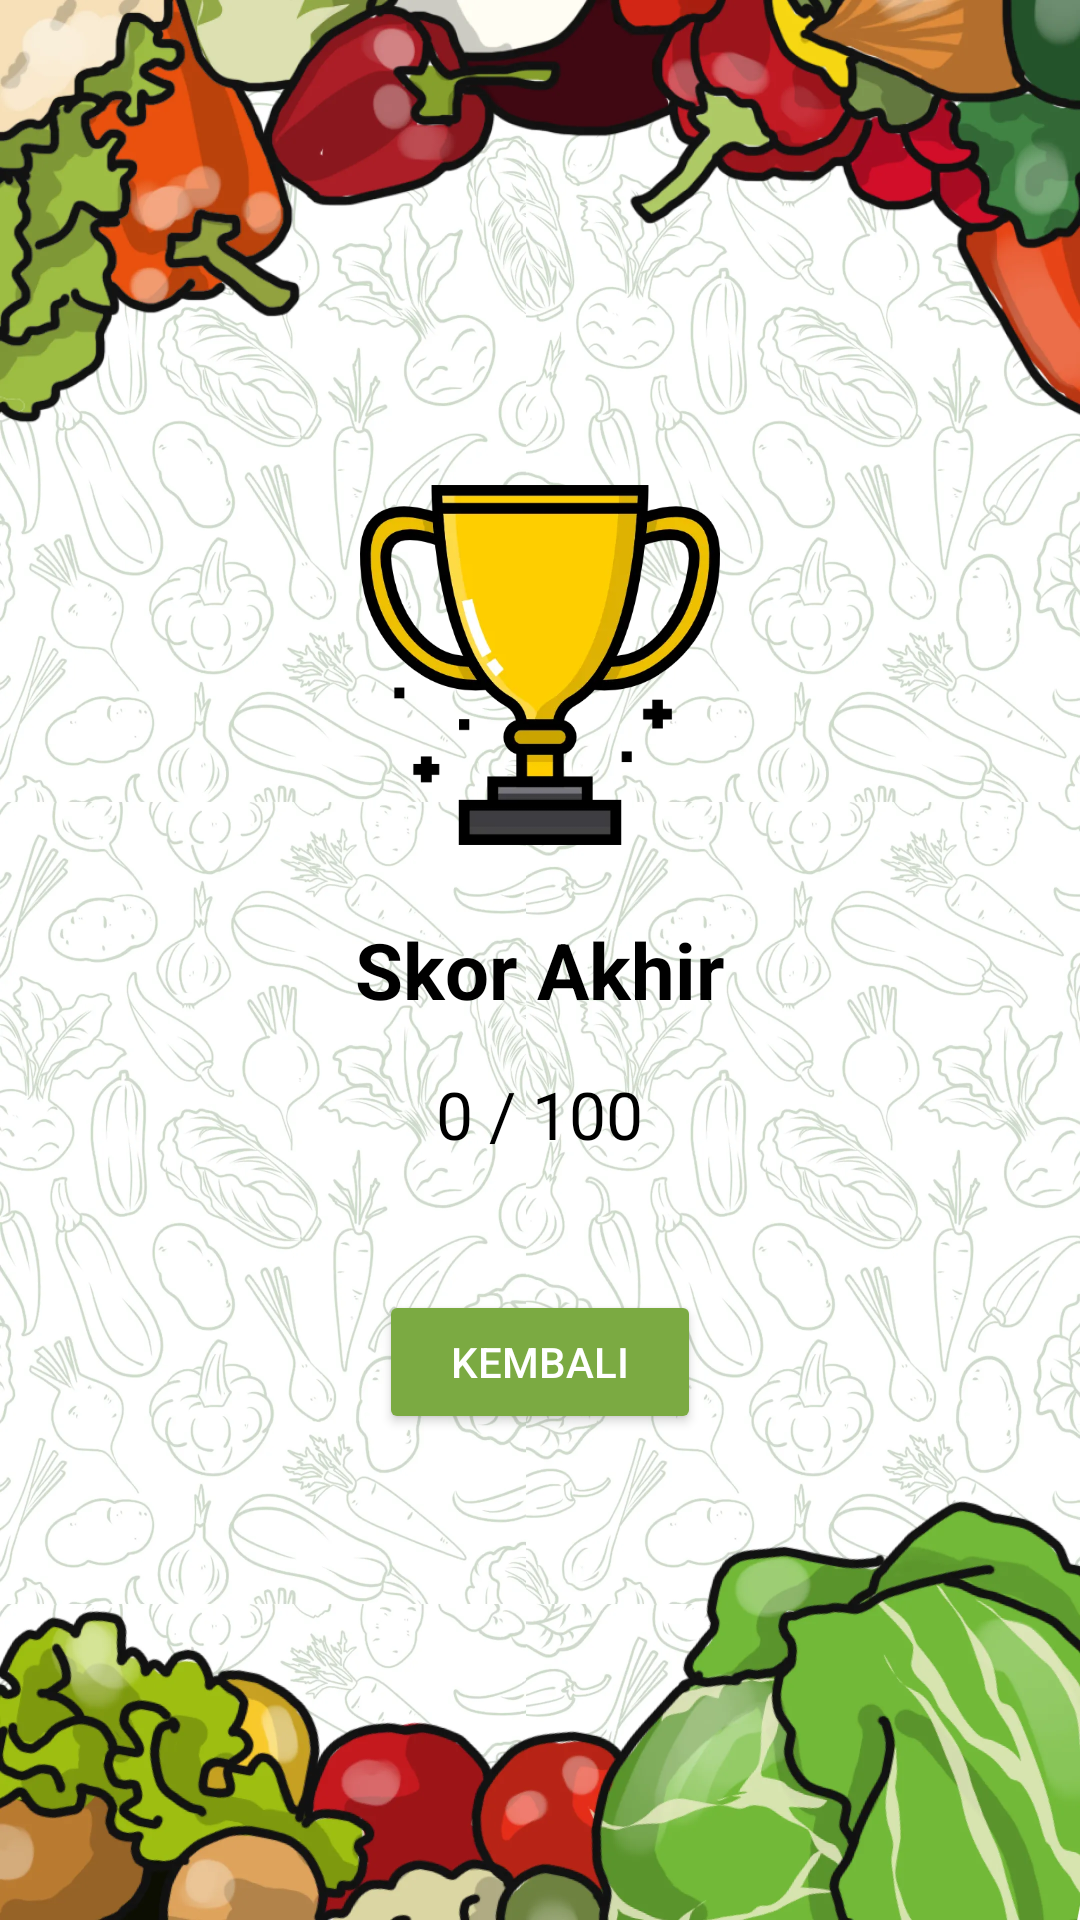

Where icons sit on this 1080px×1920px app screen, as [x1,y1,x2,y2]:
trophy: [360,485,720,845]
